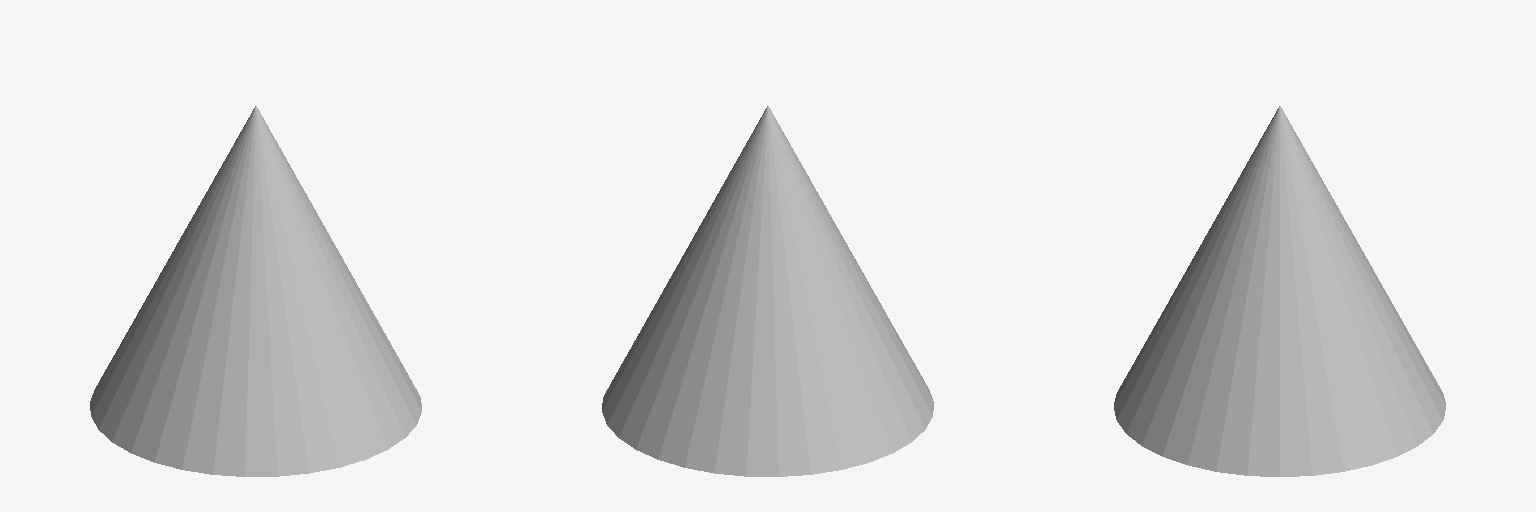
The model's file is cone_bulb2.obj.
The picture shows the model from 3 angles: view 1: azimuth 30°, elevation 25°; view 2: azimuth 150°, elevation 25°; view 3: azimuth 270°, elevation 25°; orthographic projection.
Visible parts, largest first — view 1: Cone.000_Cone.002; view 2: Cone.000_Cone.002; view 3: Cone.000_Cone.002.
Part boxes in pixels (x1,y1,x2,y2): Cone.000_Cone.002: (90, 106, 421, 476); Cone.000_Cone.002: (602, 106, 933, 476); Cone.000_Cone.002: (1114, 106, 1445, 476).
Size of the model in its own units: 0.9578 by 0.9578 by 0.9578.